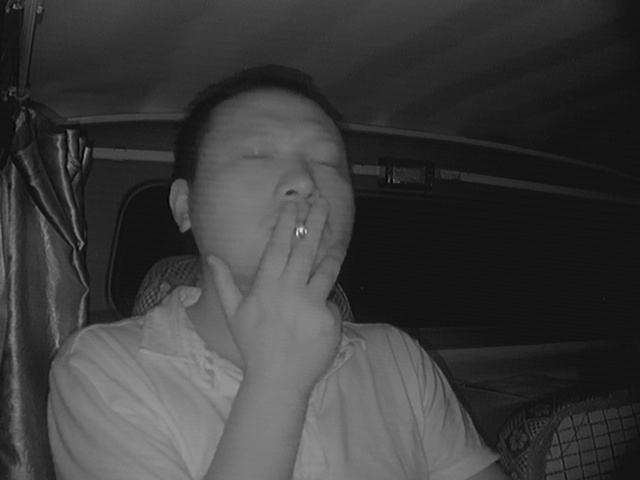hand: (249, 200, 352, 336)
